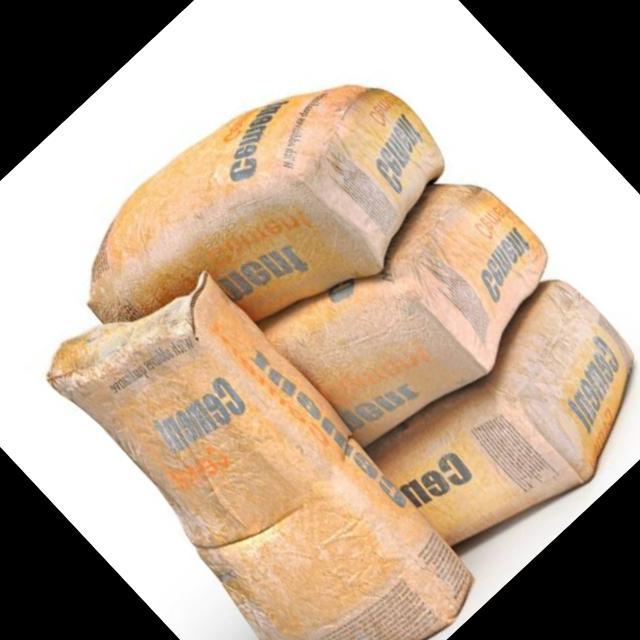KantongSemen: (49, 11, 482, 436)
